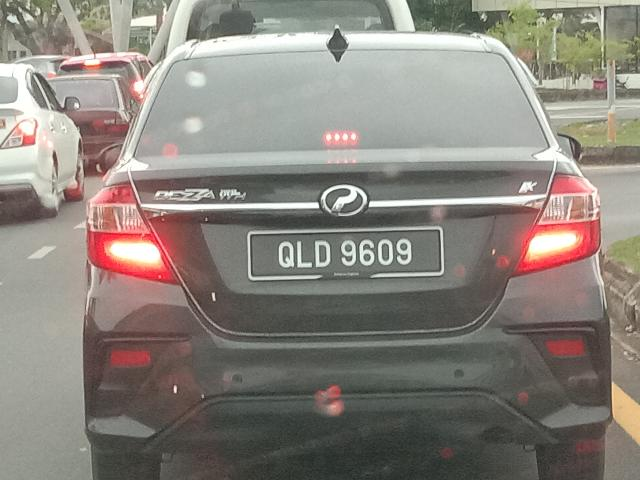License_Plate: (248, 228, 447, 285)
car: (78, 35, 640, 480)
